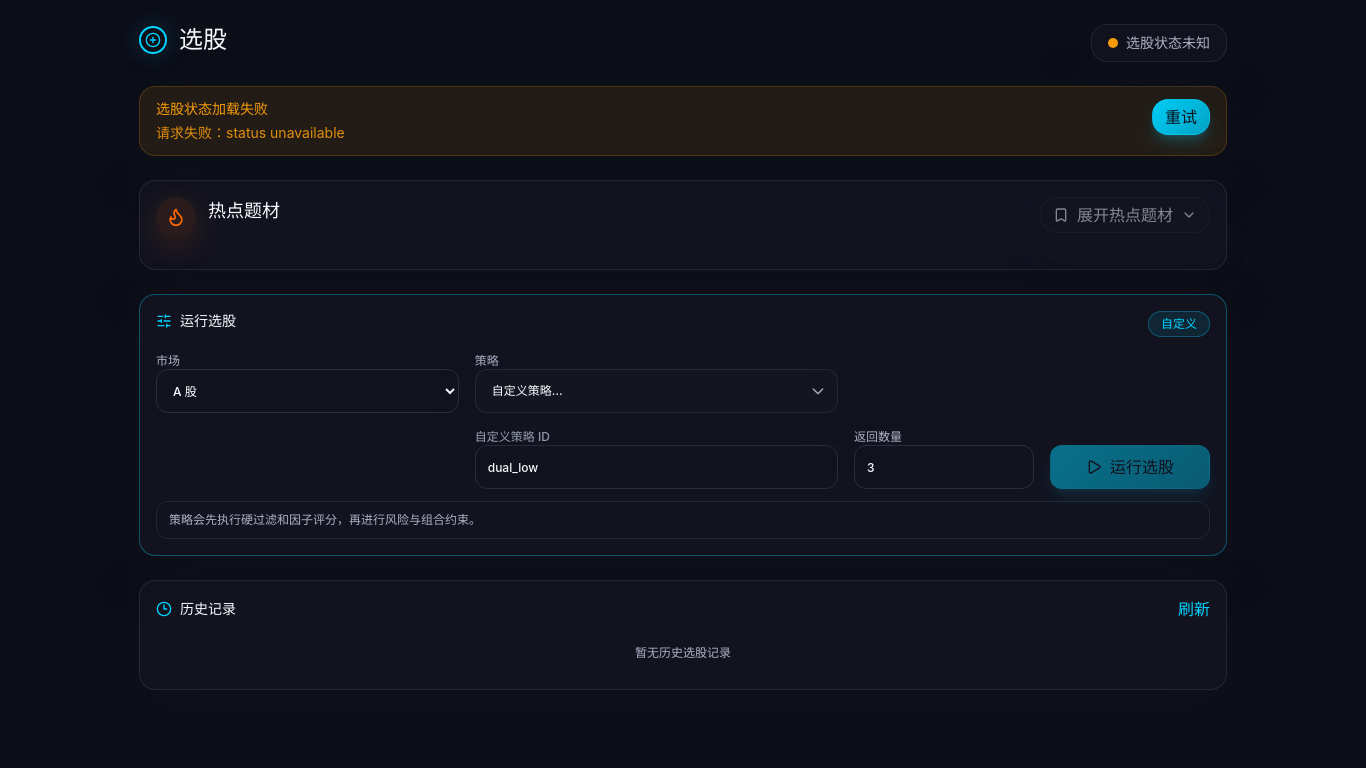
Test case: StockScreeningPage › retries unknown status without changing configuration (enabled=false)
Expected: the text "选股状态加载失败" is shown, [156,100,268,117]
Expected: the text "选股状态未知" is shown, [1126,33,1210,53]
Click the button "重试": (1181, 117) [1152,99,1210,135]
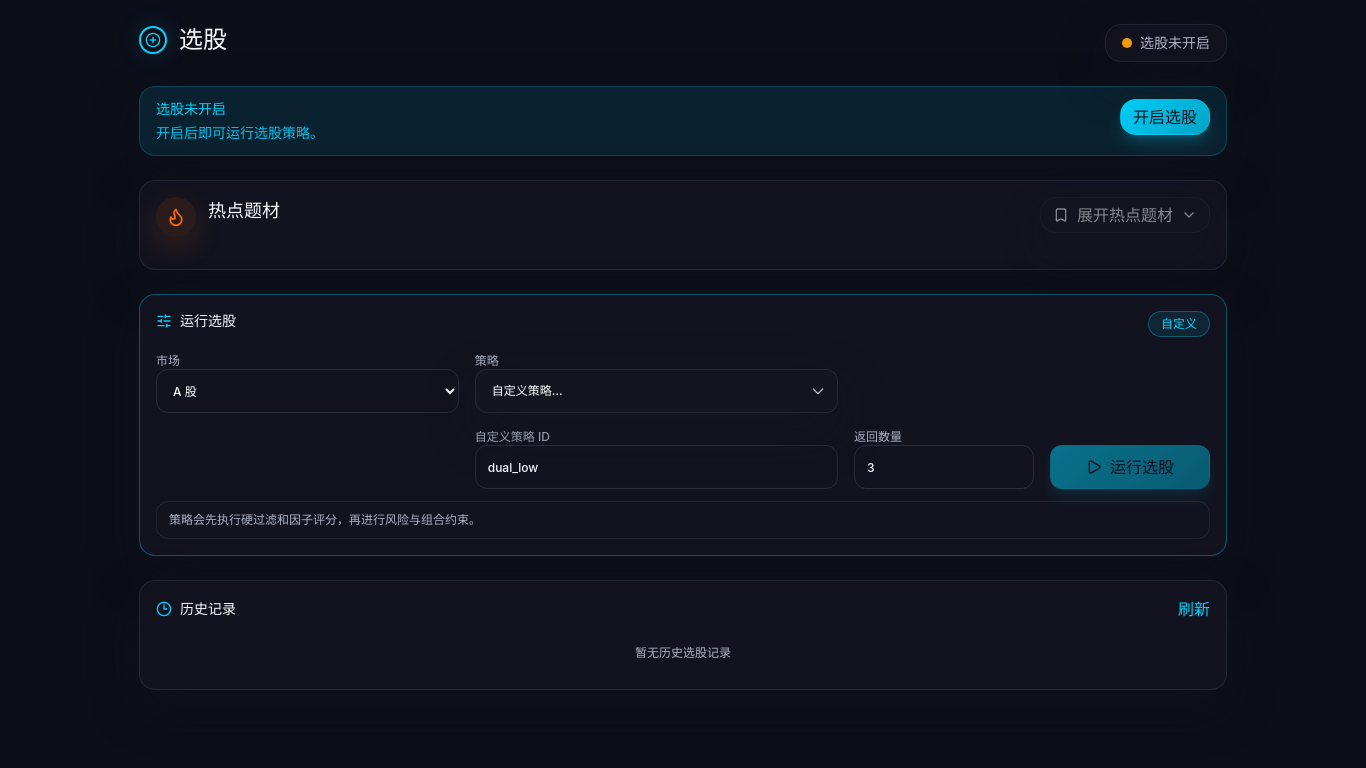
Expected: the 1st text "正在检查选股状态" is shown, [1140,33,1210,53]
Result: the button "重试" is gone
Result: the text "选股状态加载失败" is gone
